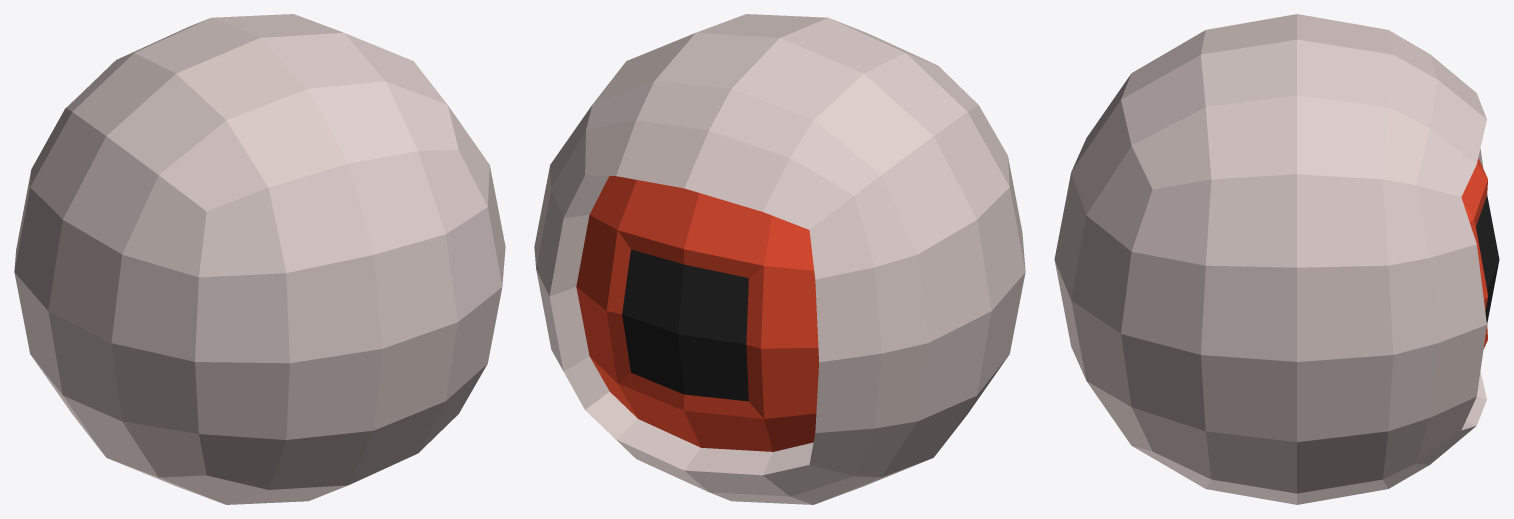
Rendered from OjoCalamardo.fbx.
3 renders of one model, left to right at view 1: azimuth 30°, elevation 25°; view 2: azimuth 150°, elevation 25°; view 3: azimuth 270°, elevation 25°, orthographic.
Visible parts, largest first — view 1: Cube; view 2: Cube; view 3: Cube.
Boxes of the visible parts, x1=… form: Cube: x1=14, y1=14, x2=505, y2=504; Cube: x1=534, y1=14, x2=1025, y2=504; Cube: x1=1054, y1=14, x2=1499, y2=504.
Bounding box in the file's own units: 168 × 168 × 154.
